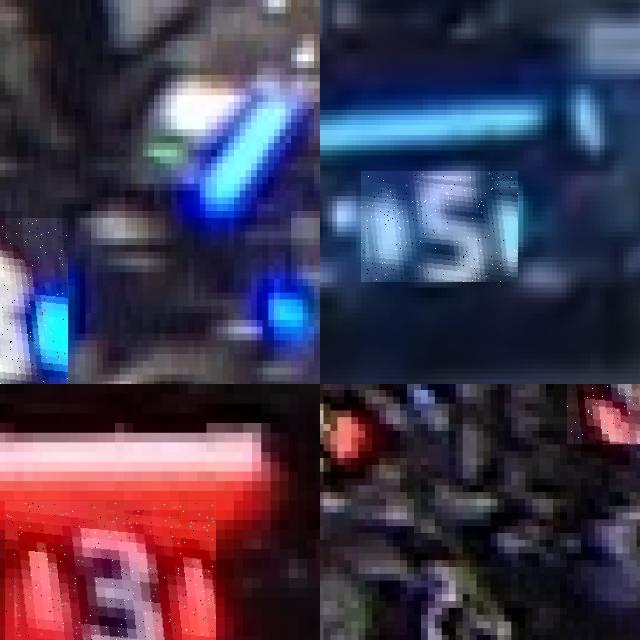B3: (0, 218, 68, 384)
B5: (361, 171, 518, 282)
R2: (320, 384, 379, 478), (566, 384, 640, 444)
R3: (5, 500, 215, 640)
